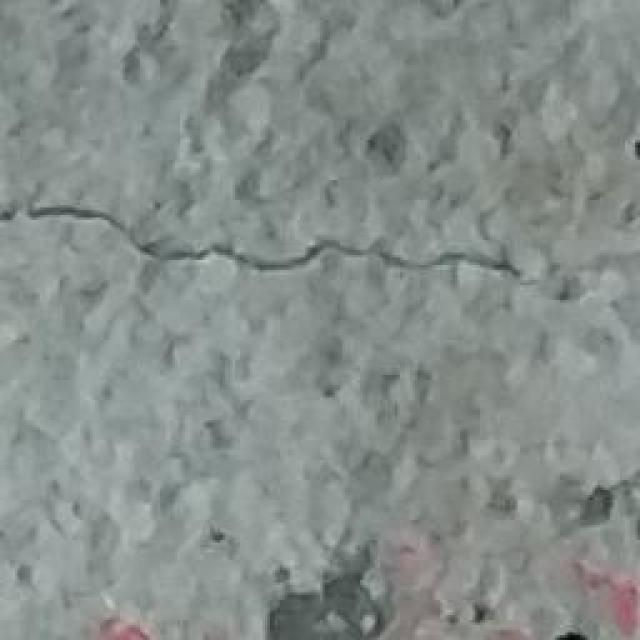Annular: (200, 518, 495, 640)
Transverse: (0, 168, 640, 299)
